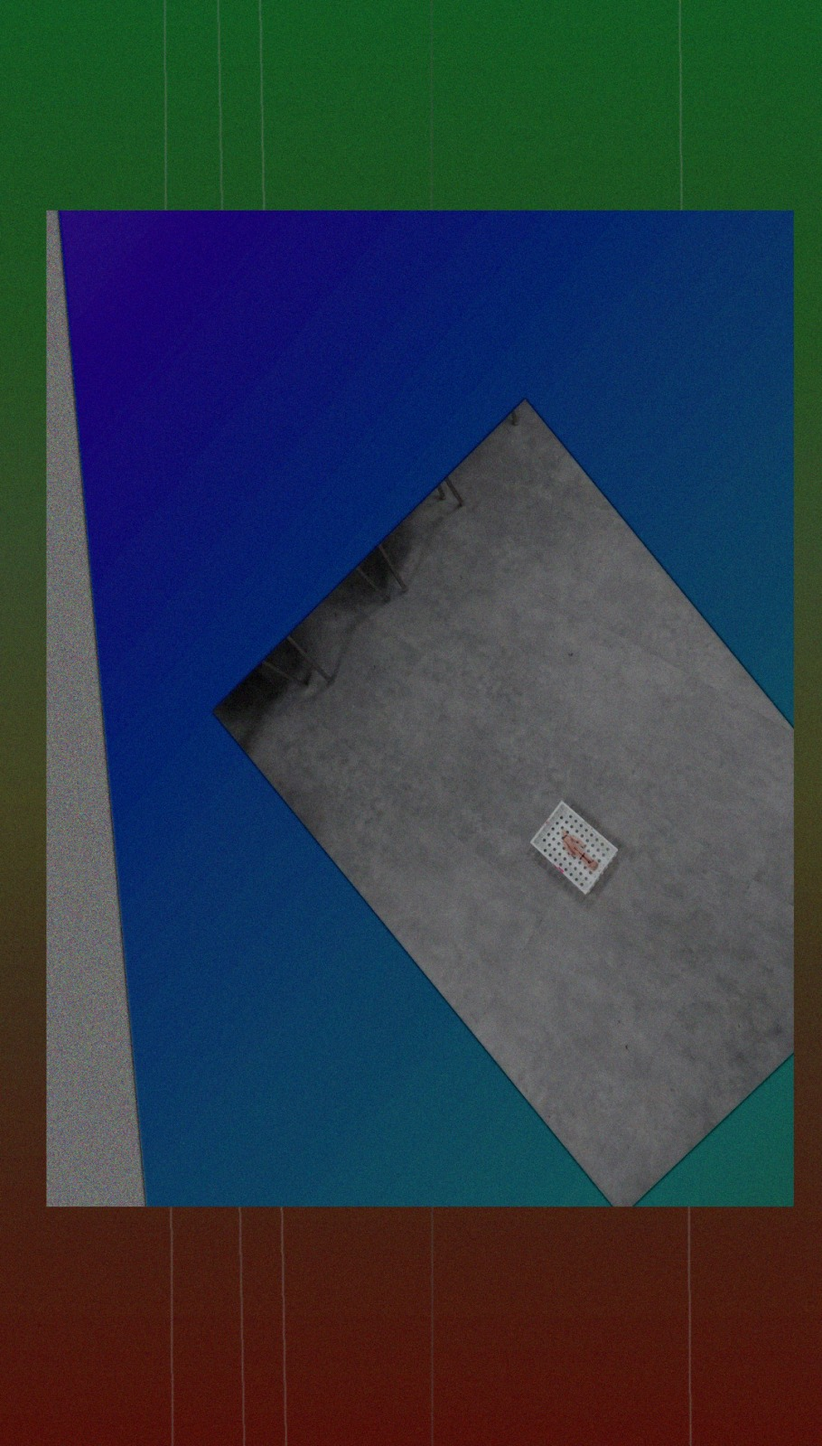basket: (528, 800, 621, 898)
mannequin: (559, 830, 599, 871)
